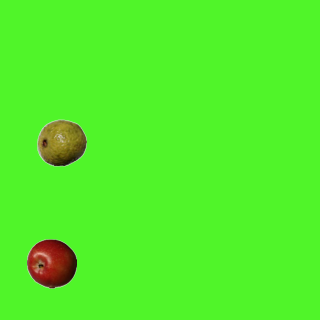Apple Braeburn: (26, 238, 76, 288)
Guava: (36, 117, 86, 167)
